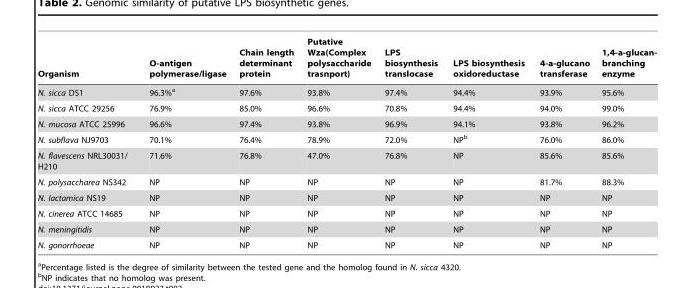table: (37, 37, 656, 249)
table column: (37, 37, 137, 249), (137, 37, 232, 249), (444, 37, 531, 249), (299, 37, 377, 249), (232, 37, 299, 249), (377, 37, 444, 249), (531, 37, 595, 249), (595, 37, 656, 249)
table column header: (37, 37, 656, 82)
table row: (37, 37, 656, 82), (37, 147, 656, 174), (37, 82, 656, 100), (37, 130, 656, 147), (37, 100, 656, 116), (37, 189, 656, 205), (37, 205, 656, 221), (37, 221, 656, 237), (37, 174, 656, 189), (37, 116, 656, 130), (37, 237, 656, 249)
